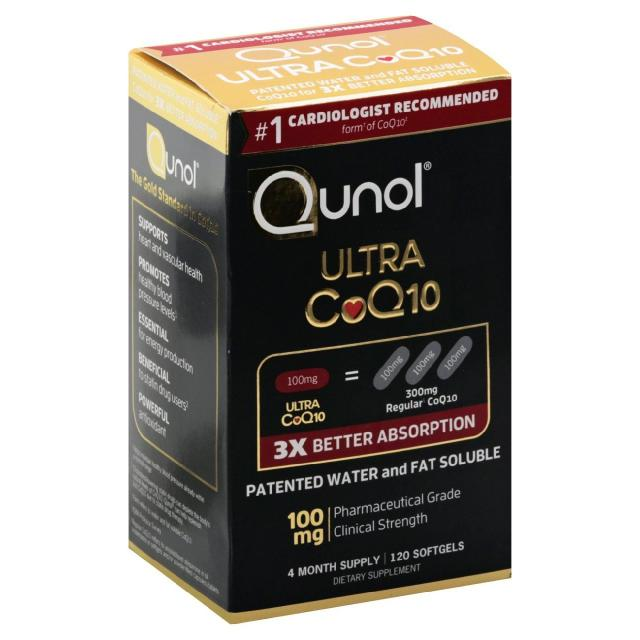food-supliment: (152, 35, 526, 103)
medicine: (222, 118, 508, 570)
